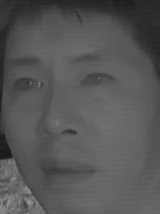eye: (79, 68, 116, 92), (7, 73, 46, 95)
mouth: (37, 153, 98, 188)
